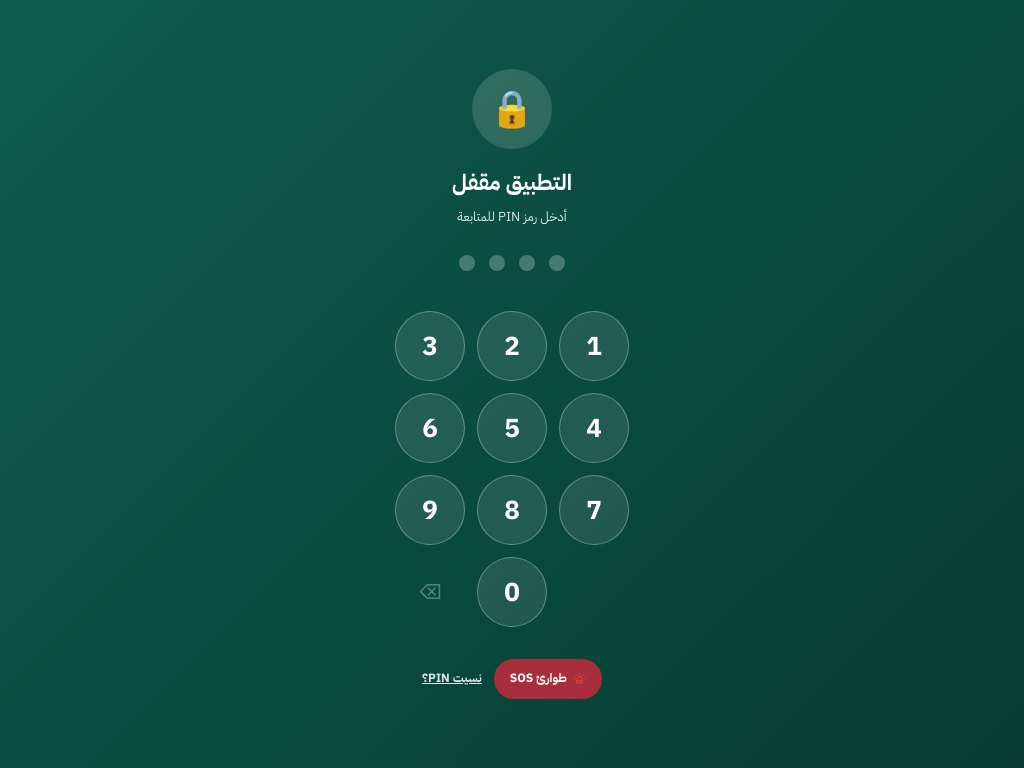
③ شاشةُ قفل PIN لا تتجمّد عند انقطاع الشبكة › 🚨 رميُ التحقّق ← رسالةٌ واللوحةُ تعمل من جديد
This screenshot has width=1024, height=768.
Click the button "1" at (594, 346), box [559, 311, 629, 381]
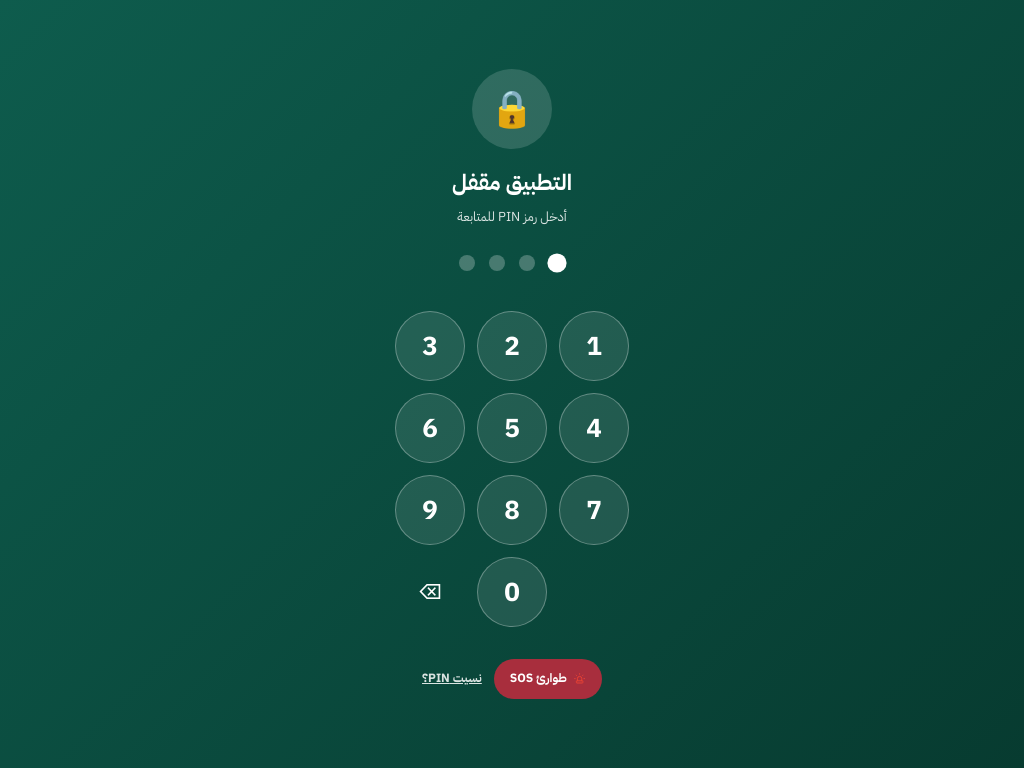
Click the button "2" at (512, 346), box [477, 311, 547, 381]
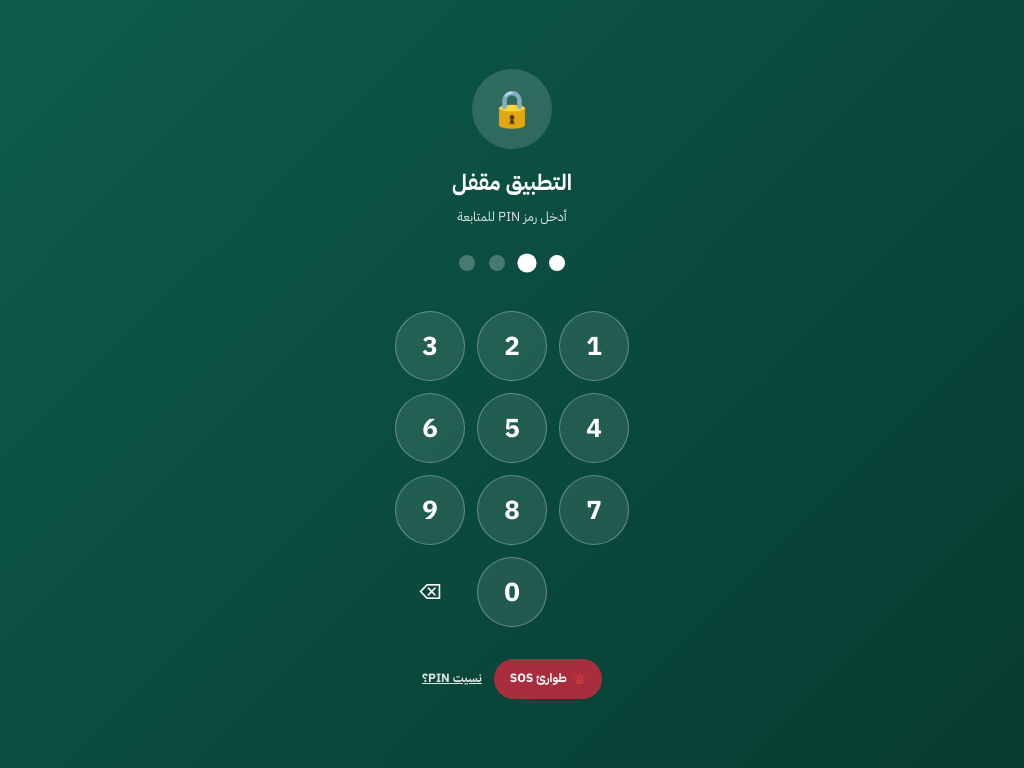
Click the button "3" at (430, 346), box [395, 311, 465, 381]
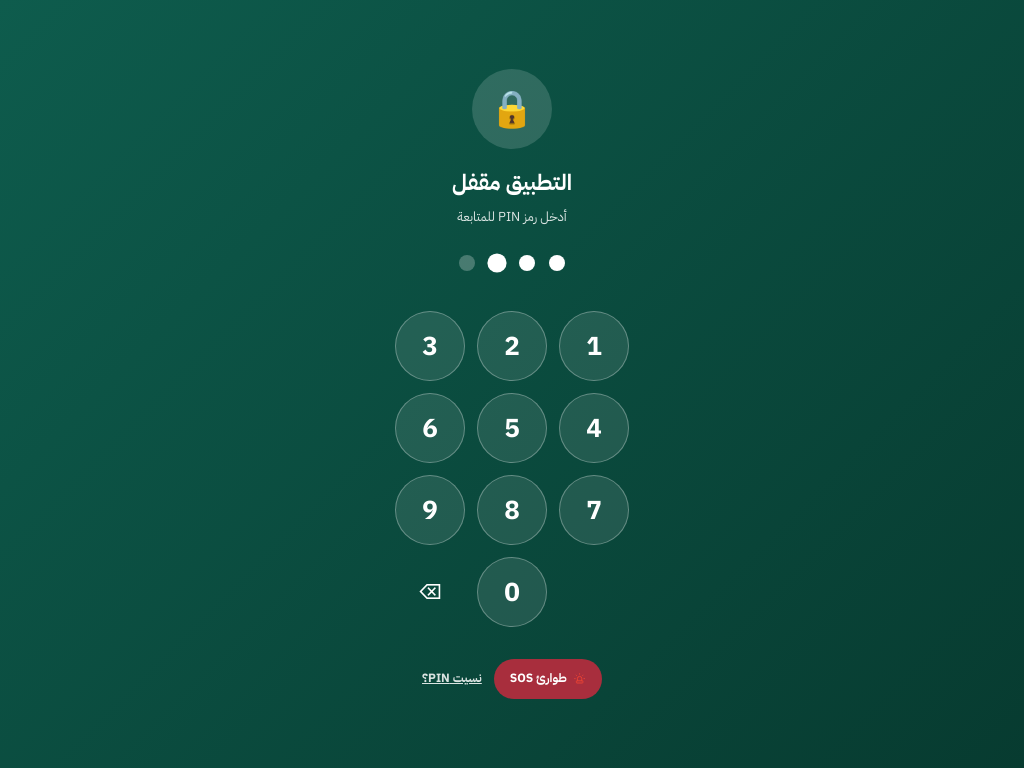
Click the button "4" at (594, 428), box [559, 393, 629, 463]
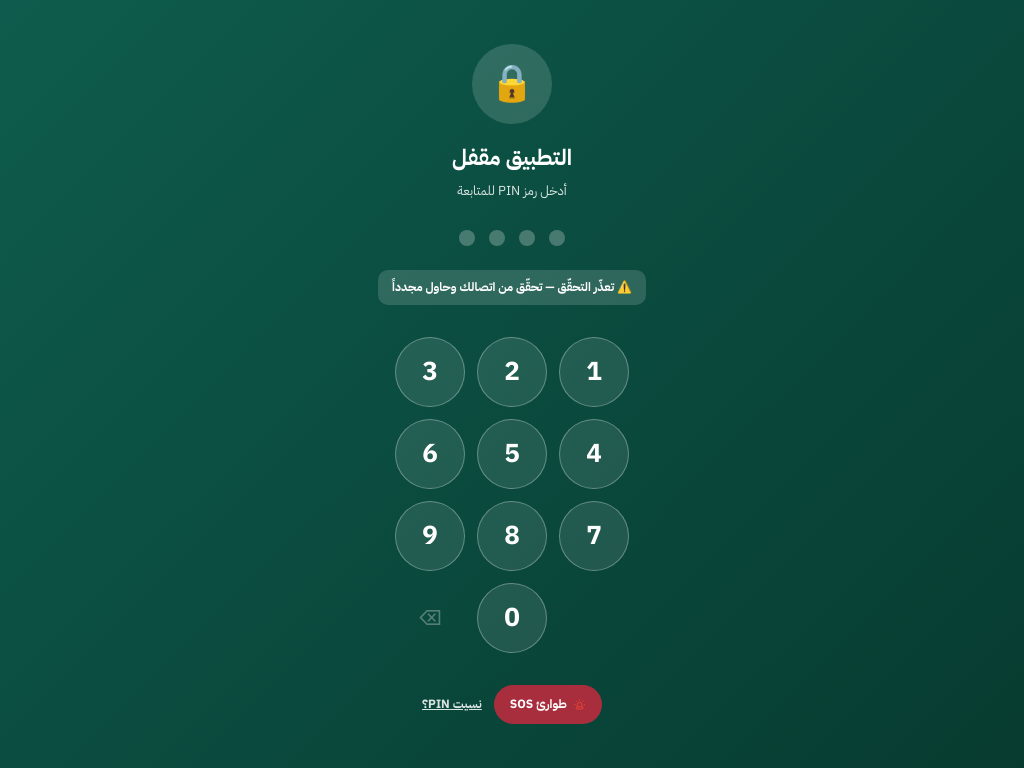
Expected: the button "5" is enabled, [477, 419, 547, 489]
Result: the text "⚠️ تعذّر التحقّق — تحقّق من اتصالك وحاول مجدداً" is shown at [378, 270, 646, 305]
